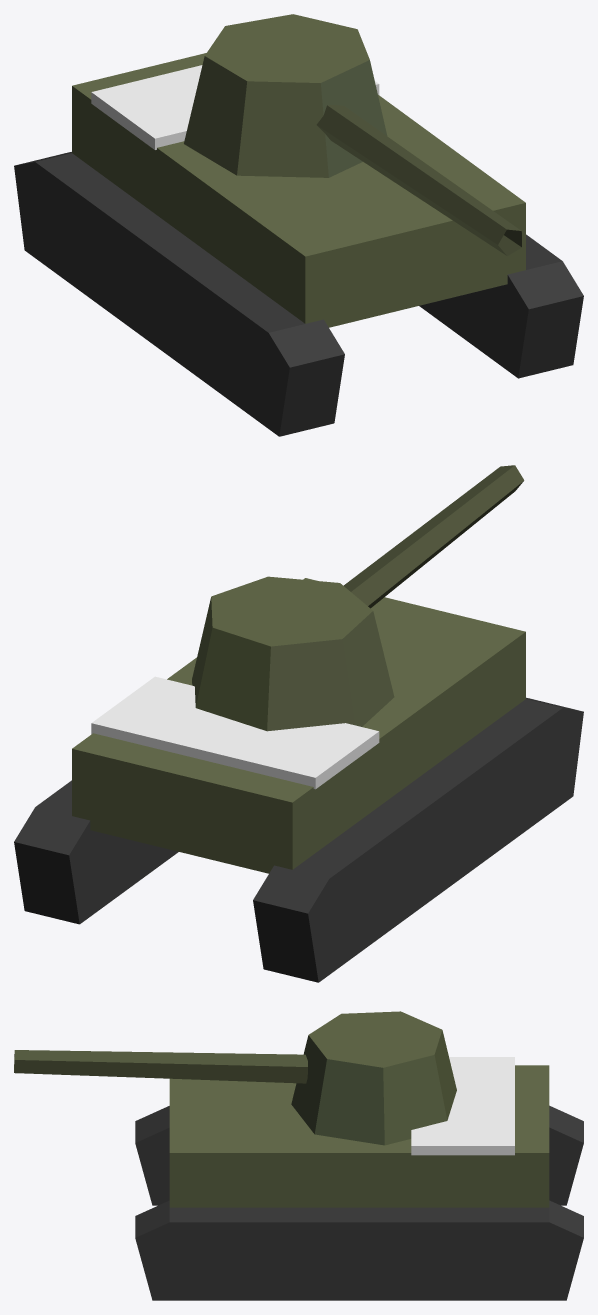
The model's file is Tank.glb.
3 views of the same model, one above another, from view 1: azimuth 30°, elevation 25°; view 2: azimuth 150°, elevation 25°; view 3: azimuth 270°, elevation 25° (orthographic). The views are drawn at different scales.
Visible parts, largest first — view 1: Units_Tank; view 2: Units_Tank; view 3: Units_Tank.
Boxes of the visible parts, x1,y1,x2,y2 form: Units_Tank: (14,14,583,436); Units_Tank: (14,465,583,982); Units_Tank: (14,1011,583,1300).
Size of the model in its own units: 0.16 by 0.13 by 0.3302.
